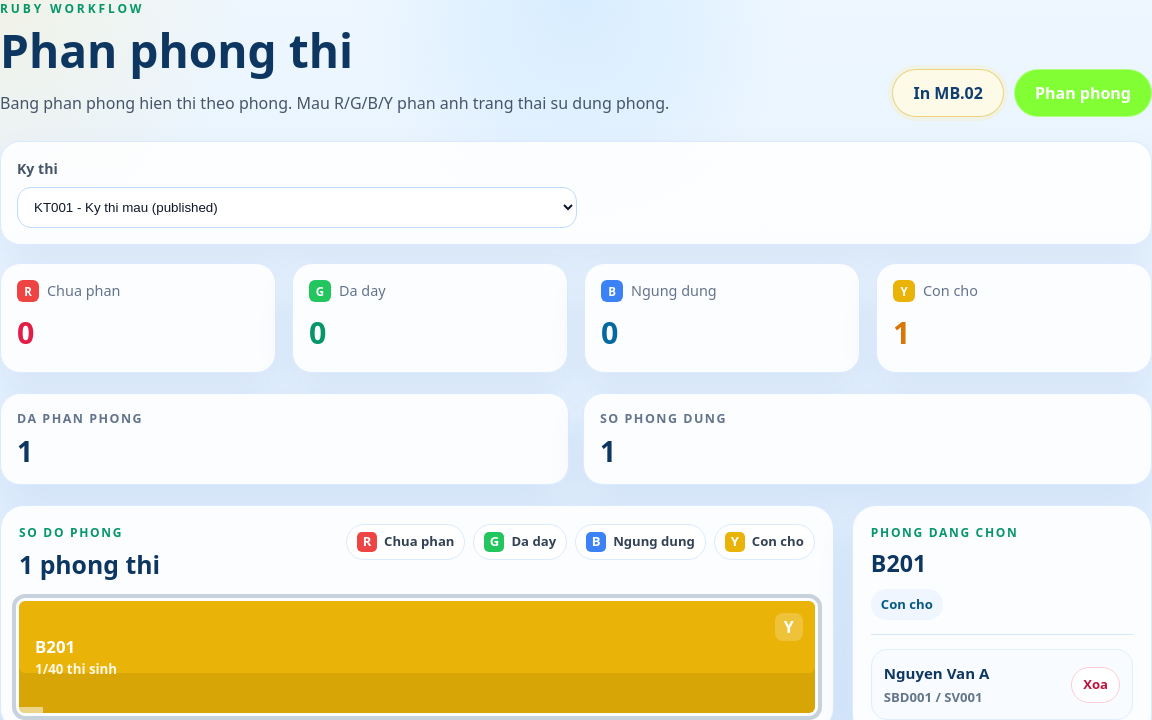
RoomAssignmentPage › shows confirm dialog before removing an assignment
Click the button "Xoa" at (1096, 685), box [1071, 667, 1120, 703]
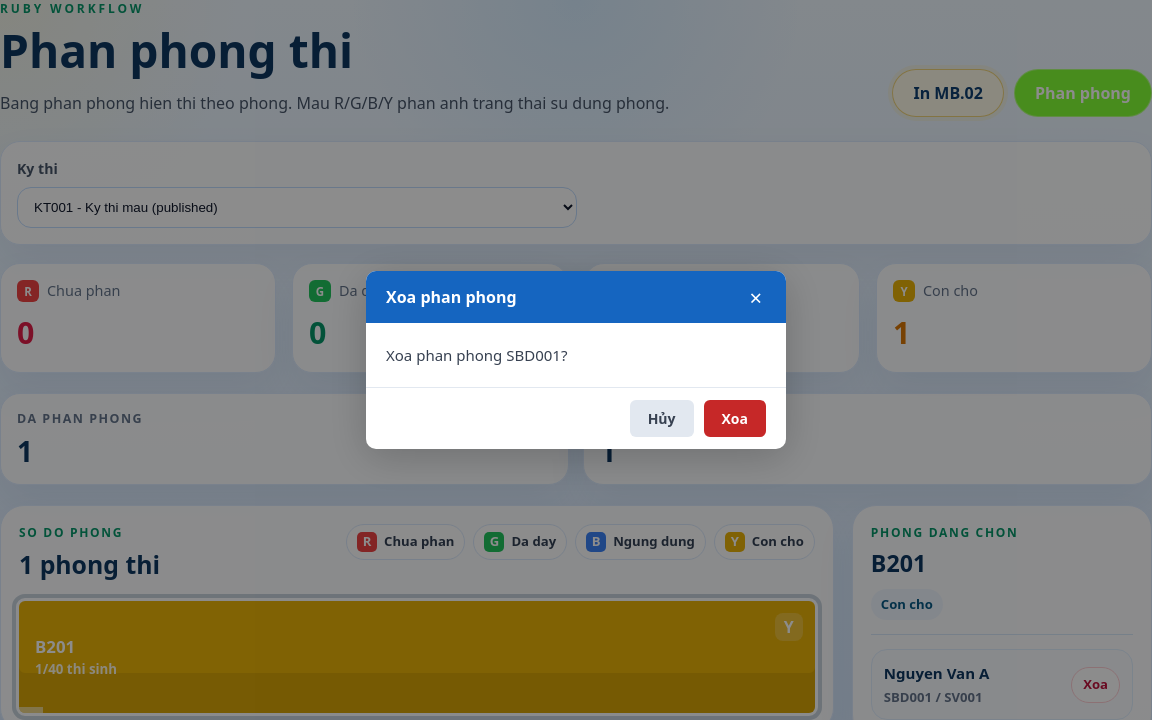
Expected: the text "Xoa phan phong" is shown, [386, 285, 517, 309]
